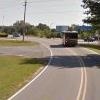Bus: (59, 26, 80, 51)
